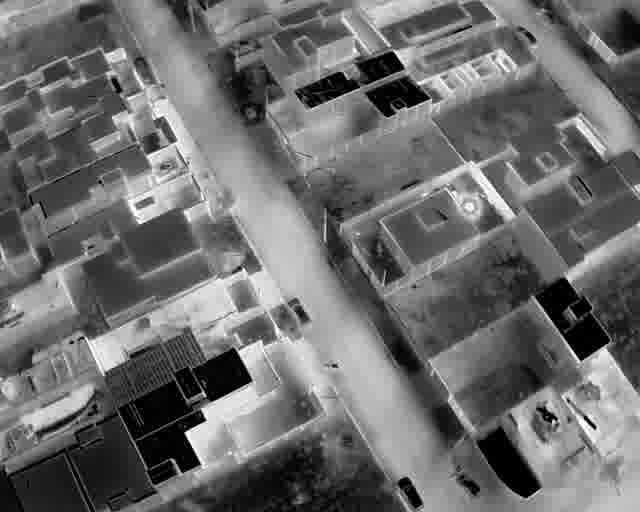car: (397, 476, 424, 512), (286, 295, 312, 328), (455, 471, 483, 497), (513, 25, 538, 48), (230, 37, 255, 54)
motorcycle: (324, 360, 340, 368)
